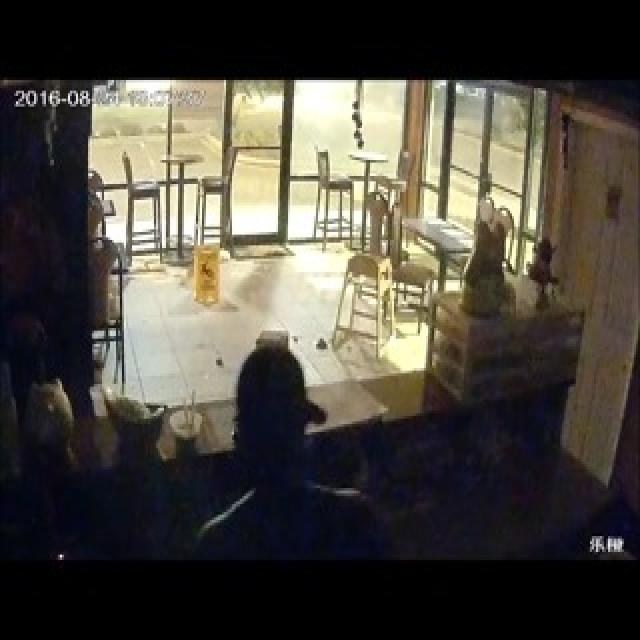thief: (208, 312, 320, 516)
